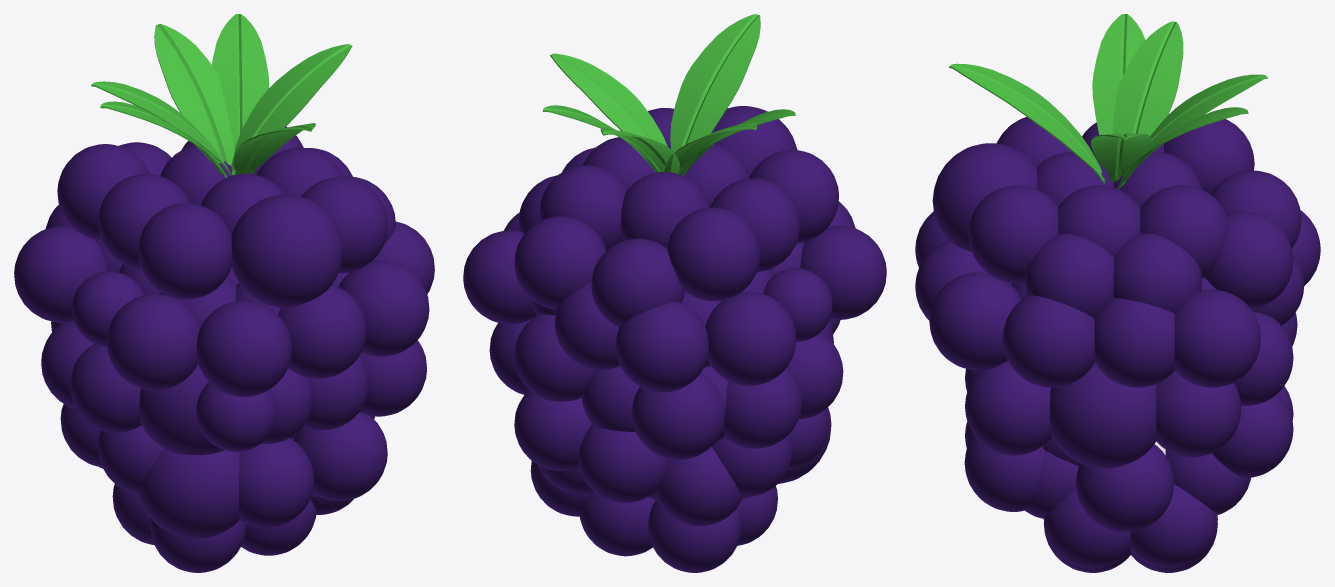
File: moras.fbx
The picture shows the model from 3 angles, left to right: view 1: azimuth 30°, elevation 25°; view 2: azimuth 150°, elevation 25°; view 3: azimuth 270°, elevation 25°; orthographic projection. The views are drawn at different scales.
Visible parts, largest first — view 1: Sphere.052, Sphere.041, Sphere.014, Sphere.051, Sphere.023, Sphere.021, Sphere.016, Sphere.015, Sphere.073, Sphere.036, Circle, Sphere.049 (+27 smaller); view 2: Sphere.049, Sphere.021, Sphere.010, Circle.001, Sphere.057, Sphere.075, Sphere.056, Sphere.023, Sphere.059, Sphere.039, Sphere.045, Sphere.020 (+30 smaller); view 3: Sphere.043, Sphere.020, Sphere.017, Sphere.016, Sphere.053, Sphere.018, Sphere.060, Sphere.062, Sphere.052, Sphere.057, Sphere.042, Circle.005 (+25 smaller).
Boxes of the visible parts, bbox=[...] form: Sphere.052: bbox=[231, 194, 342, 307]; Sphere.041: bbox=[138, 448, 239, 538]; Sphere.014: bbox=[196, 300, 291, 396]; Sphere.051: bbox=[138, 203, 231, 299]; Sphere.023: bbox=[107, 294, 200, 390]; Sphere.021: bbox=[14, 226, 106, 322]; Sphere.016: bbox=[338, 260, 429, 356]; Sphere.015: bbox=[278, 284, 366, 378]; Sphere.073: bbox=[294, 412, 387, 500]; Sphere.036: bbox=[238, 438, 314, 527]; Circle: bbox=[154, 24, 234, 165]; Sphere.049: bbox=[57, 144, 149, 240]; Sphere.049: bbox=[667, 207, 760, 301]; Sphere.021: bbox=[705, 292, 796, 385]; Sphere.010: bbox=[615, 302, 708, 392]; Circle.001: bbox=[670, 14, 760, 152]; Sphere.057: bbox=[514, 216, 606, 309]; Sphere.075: bbox=[631, 372, 725, 459]; Sphere.056: bbox=[591, 238, 684, 327]; Sphere.023: bbox=[800, 226, 886, 319]; Sphere.059: bbox=[578, 424, 668, 503]; Sphere.039: bbox=[655, 446, 742, 526]; Sphere.045: bbox=[724, 368, 801, 448]; Sphere.020: bbox=[463, 230, 536, 324]; Sphere.043: bbox=[1049, 362, 1156, 468]; Sphere.020: bbox=[1174, 289, 1260, 387]; Sphere.017: bbox=[1002, 295, 1094, 387]; Sphere.016: bbox=[929, 272, 1020, 370]; Sphere.053: bbox=[968, 185, 1058, 283]; Sphere.018: bbox=[1094, 298, 1174, 387]; Sphere.060: bbox=[965, 361, 1052, 455]; Sphere.062: bbox=[1076, 444, 1174, 532]; Sphere.052: bbox=[932, 143, 1037, 251]; Sphere.057: bbox=[1204, 211, 1293, 309]; Sphere.042: bbox=[1156, 371, 1241, 457]; Circle.005: bbox=[1113, 21, 1183, 135].
Bounding box in the file's own units: 256 × 357 × 268.
